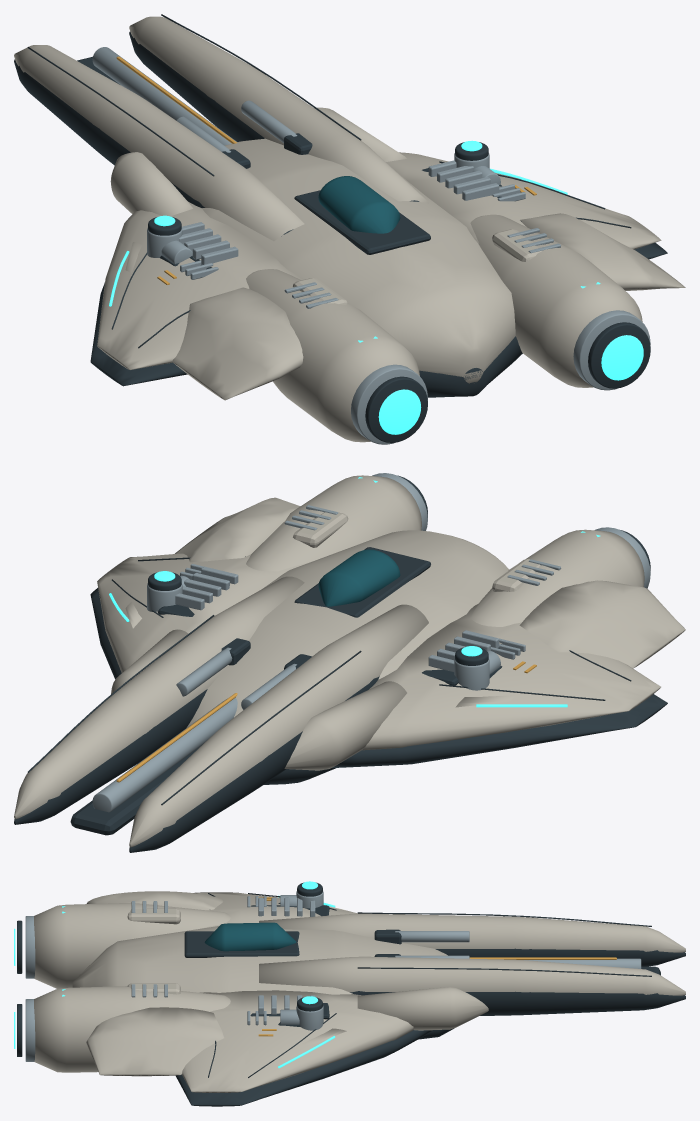
The model's file is siege-3.glb.
3 renders of one model, top to bottom at view 1: azimuth 30°, elevation 25°; view 2: azimuth 150°, elevation 25°; view 3: azimuth 270°, elevation 25°, orthographic. The views are drawn at different scales.
Visible parts, largest first — view 1: SM_Hull, SM_Wing_Left, SM_Engine_Right, SM_Engine_Left, SM_Wing_Right, SM_Weapon_Right, SM_Stage03, SM_Stage04, SM_Stage01, SM_Weapon_Left; view 2: SM_Hull, SM_Wing_Left, SM_Wing_Right, SM_Engine_Right, SM_Engine_Left, SM_Weapon_Right, SM_Stage04, SM_Stage03, SM_Weapon_Left, SM_Stage02; view 3: SM_Hull, SM_Wing_Right, SM_Engine_Left, SM_Engine_Right, SM_Wing_Left, SM_Weapon_Right, SM_Stage04, SM_Stage03, SM_Weapon_Left, SM_Stage01.
Boxes of the visible parts, bbox=[...] form: SM_Hull: bbox=[14, 14, 522, 397]; SM_Wing_Left: bbox=[90, 201, 303, 400]; SM_Engine_Right: bbox=[470, 214, 650, 390]; SM_Engine_Left: bbox=[246, 269, 427, 444]; SM_Wing_Right: bbox=[386, 152, 685, 290]; SM_Weapon_Right: bbox=[77, 47, 312, 154]; SM_Stage03: bbox=[180, 184, 541, 305]; SM_Stage04: bbox=[147, 140, 489, 257]; SM_Stage01: bbox=[160, 166, 501, 266]; SM_Weapon_Left: bbox=[176, 116, 250, 168]; SM_Hull: bbox=[14, 530, 509, 852]; SM_Wing_Left: bbox=[332, 580, 685, 767]; SM_Wing_Right: bbox=[90, 497, 309, 679]; SM_Engine_Right: bbox=[246, 473, 427, 571]; SM_Engine_Left: bbox=[470, 527, 650, 626]; SM_Weapon_Right: bbox=[70, 638, 250, 835]; SM_Stage04: bbox=[147, 571, 489, 690]; SM_Stage03: bbox=[180, 512, 540, 659]; SM_Weapon_Left: bbox=[241, 654, 311, 709]; SM_Stage02: bbox=[125, 602, 515, 707]; SM_Hull: bbox=[72, 897, 685, 1039]; SM_Wing_Right: bbox=[86, 990, 432, 1106]; SM_Engine_Left: bbox=[14, 901, 230, 988]; SM_Engine_Right: bbox=[14, 984, 230, 1072]; SM_Wing_Left: bbox=[86, 891, 357, 928]; SM_Weapon_Right: bbox=[374, 954, 660, 975]; SM_Stage04: bbox=[296, 881, 323, 1030]; SM_Stage03: bbox=[127, 896, 266, 1025]; SM_Weapon_Left: bbox=[374, 929, 469, 944]; SM_Stage01: bbox=[278, 895, 300, 1026].
Size of the model in its own units: 7.09 by 1.73 by 9.9.
